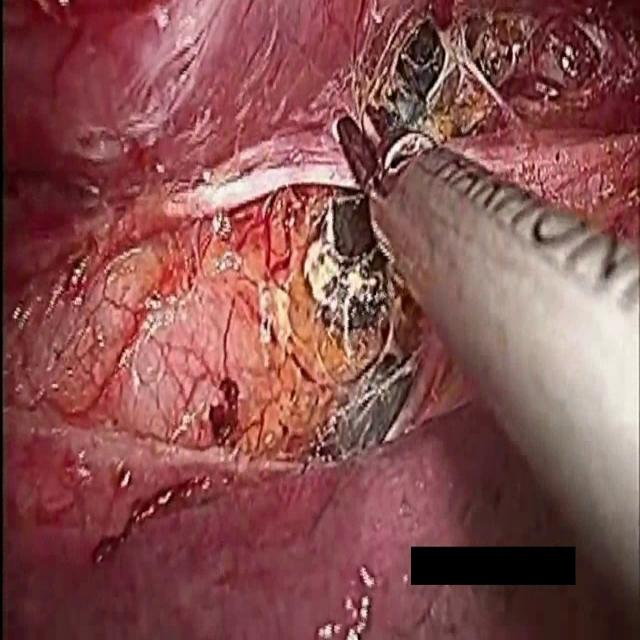surgical-area: (0, 0, 640, 639), (412, 582, 580, 639)
surgical-tool: (342, 105, 640, 623)
